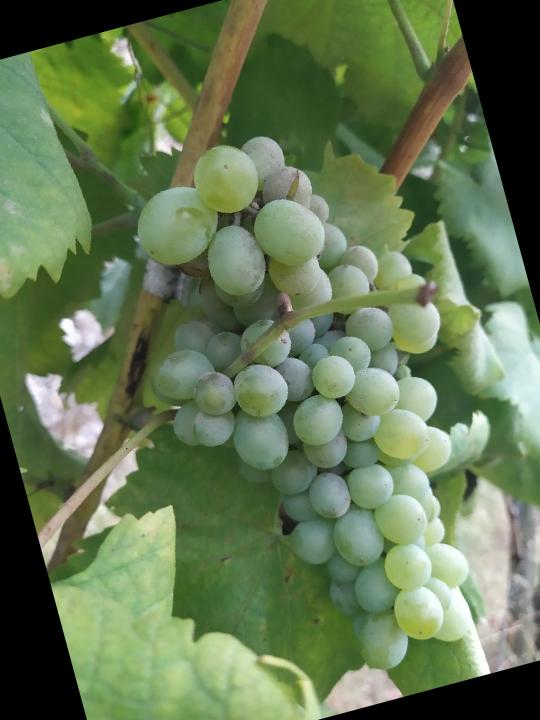grape: (98, 98, 528, 709)
